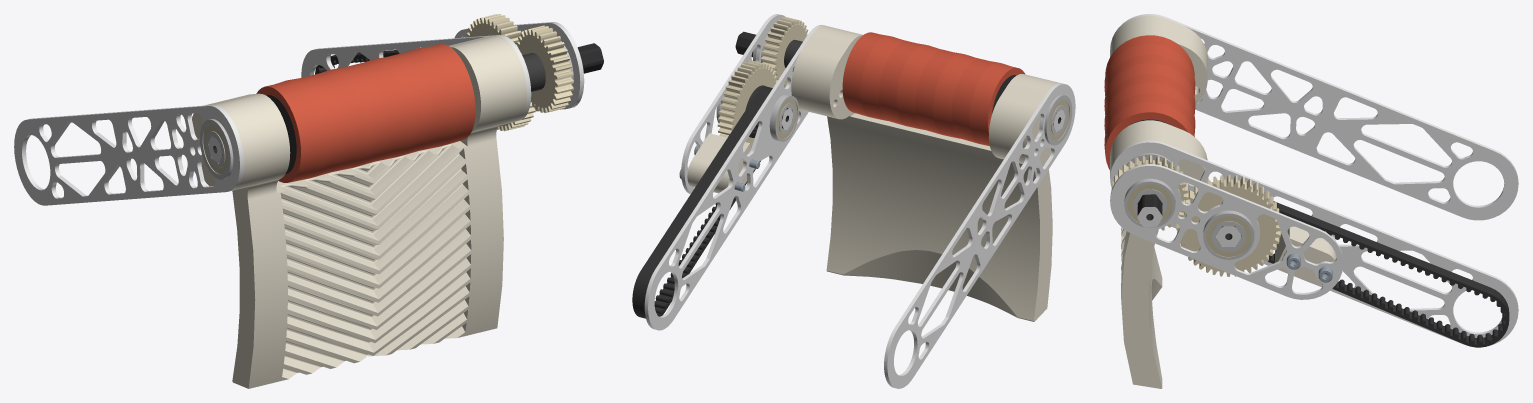
The picture shows the model from 3 angles, left to right: view 1: azimuth 30°, elevation 25°; view 2: azimuth 150°, elevation 25°; view 3: azimuth 270°, elevation 25°; orthographic projection. The views are drawn at different scales.
Parts seen in each view (by area): view 1: Part 1 (×4), 2" Stealth Wheel (40A, 1/2" Hex Bore) (×4), 32t Aluminum Spur Gear (20 DP, 1/2" Hex Bore), 1/2" Hex Bore Bearing (1.125" OD, 0.313" WD, Shielded, Flang, 44t Aluminum Spur Gear (20 DP, 1/2" Hex Bore), 1/2" Rounded Hex (8.75" L, 13.75mm OD), 1/2" Hex Bore Custom Spacer (0.75" OD,0.56" L); view 2: Part 1 (×4), 2" Stealth Wheel (40A, 1/2" Hex Bore) (×4), 80T 5M 9mm Wide Belt, 44t Aluminum Spur Gear (20 DP, 1/2" Hex Bore), 1/2" Hex Bore Bearing (1.125" OD, 0.313" WD, Shielded, Flang (×2), 32t Aluminum Spur Gear (20 DP, 1/2" Hex Bore), Part 2, 1/2" Rounded Hex (8.75" L, 13.75mm OD); view 3: Part 1 (×4), 2" Stealth Wheel (40A, 1/2" Hex Bore) (×4), 80T 5M 9mm Wide Belt, 44t Aluminum Spur Gear (20 DP, 1/2" Hex Bore), 1/2" Hex Bore Bearing (1.125" OD, 0.313" WD, Shielded, Flang (×2), Part 2, 1/2" Rounded Hex (8.75" L, 13.75mm OD), 32t Aluminum Spur Gear (20 DP, 1/2" Hex Bore), 1/2" Rounded Hex (1.625" L, 13.75mm OD).
Part boxes in pixels (left/top/right/bottom): Part 1 (×4): left=14, top=22, right=584, bottom=388; 2" Stealth Wheel (40A, 1/2" Hex Bore) (×4): left=256, top=44, right=475, bottom=182; 32t Aluminum Spur Gear (20 DP, 1/2" Hex Bore): left=516, top=25, right=573, bottom=112; 1/2" Hex Bore Bearing (1.125" OD, 0.313" WD, Shielded, Flang: left=200, top=119, right=233, bottom=179; 44t Aluminum Spur Gear (20 DP, 1/2" Hex Bore): left=466, top=14, right=535, bottom=131; 1/2" Rounded Hex (8.75" L, 13.75mm OD): left=208, top=43, right=603, bottom=162; 1/2" Hex Bore Custom Spacer (0.75" OD,0.56" L): left=522, top=53, right=545, bottom=91; Part 1 (×4): left=644, top=14, right=1075, bottom=388; 2" Stealth Wheel (40A, 1/2" Hex Bore) (×4): left=842, top=32, right=1024, bottom=146; 80T 5M 9mm Wide Belt: left=632, top=86, right=772, bottom=318; 44t Aluminum Spur Gear (20 DP, 1/2" Hex Bore): left=717, top=60, right=777, bottom=147; 1/2" Hex Bore Bearing (1.125" OD, 0.313" WD, Shielded, Flang (×2): left=769, top=94, right=1072, bottom=145; 32t Aluminum Spur Gear (20 DP, 1/2" Hex Bore): left=760, top=17, right=808, bottom=87; Part 2: left=687, top=133, right=754, bottom=193; 1/2" Rounded Hex (8.75" L, 13.75mm OD): left=735, top=31, right=1065, bottom=131; Part 1 (×4): left=1110, top=14, right=1518, bottom=388; 2" Stealth Wheel (40A, 1/2" Hex Bore) (×4): left=1104, top=35, right=1195, bottom=169; 80T 5M 9mm Wide Belt: left=1268, top=201, right=1509, bottom=347; 44t Aluminum Spur Gear (20 DP, 1/2" Hex Bore): left=1176, top=175, right=1280, bottom=276; 1/2" Hex Bore Bearing (1.125" OD, 0.313" WD, Shielded, Flang (×2): left=1124, top=178, right=1254, bottom=259; Part 2: left=1275, top=226, right=1336, bottom=284; 1/2" Rounded Hex (8.75" L, 13.75mm OD): left=1137, top=194, right=1162, bottom=227; 32t Aluminum Spur Gear (20 DP, 1/2" Hex Bore): left=1111, top=155, right=1188, bottom=232; 1/2" Rounded Hex (1.625" L, 13.75mm OD): left=1216, top=226, right=1241, bottom=246.
Bounding box in the file's own units: 0.2223 × 0.1607 × 0.2309.
